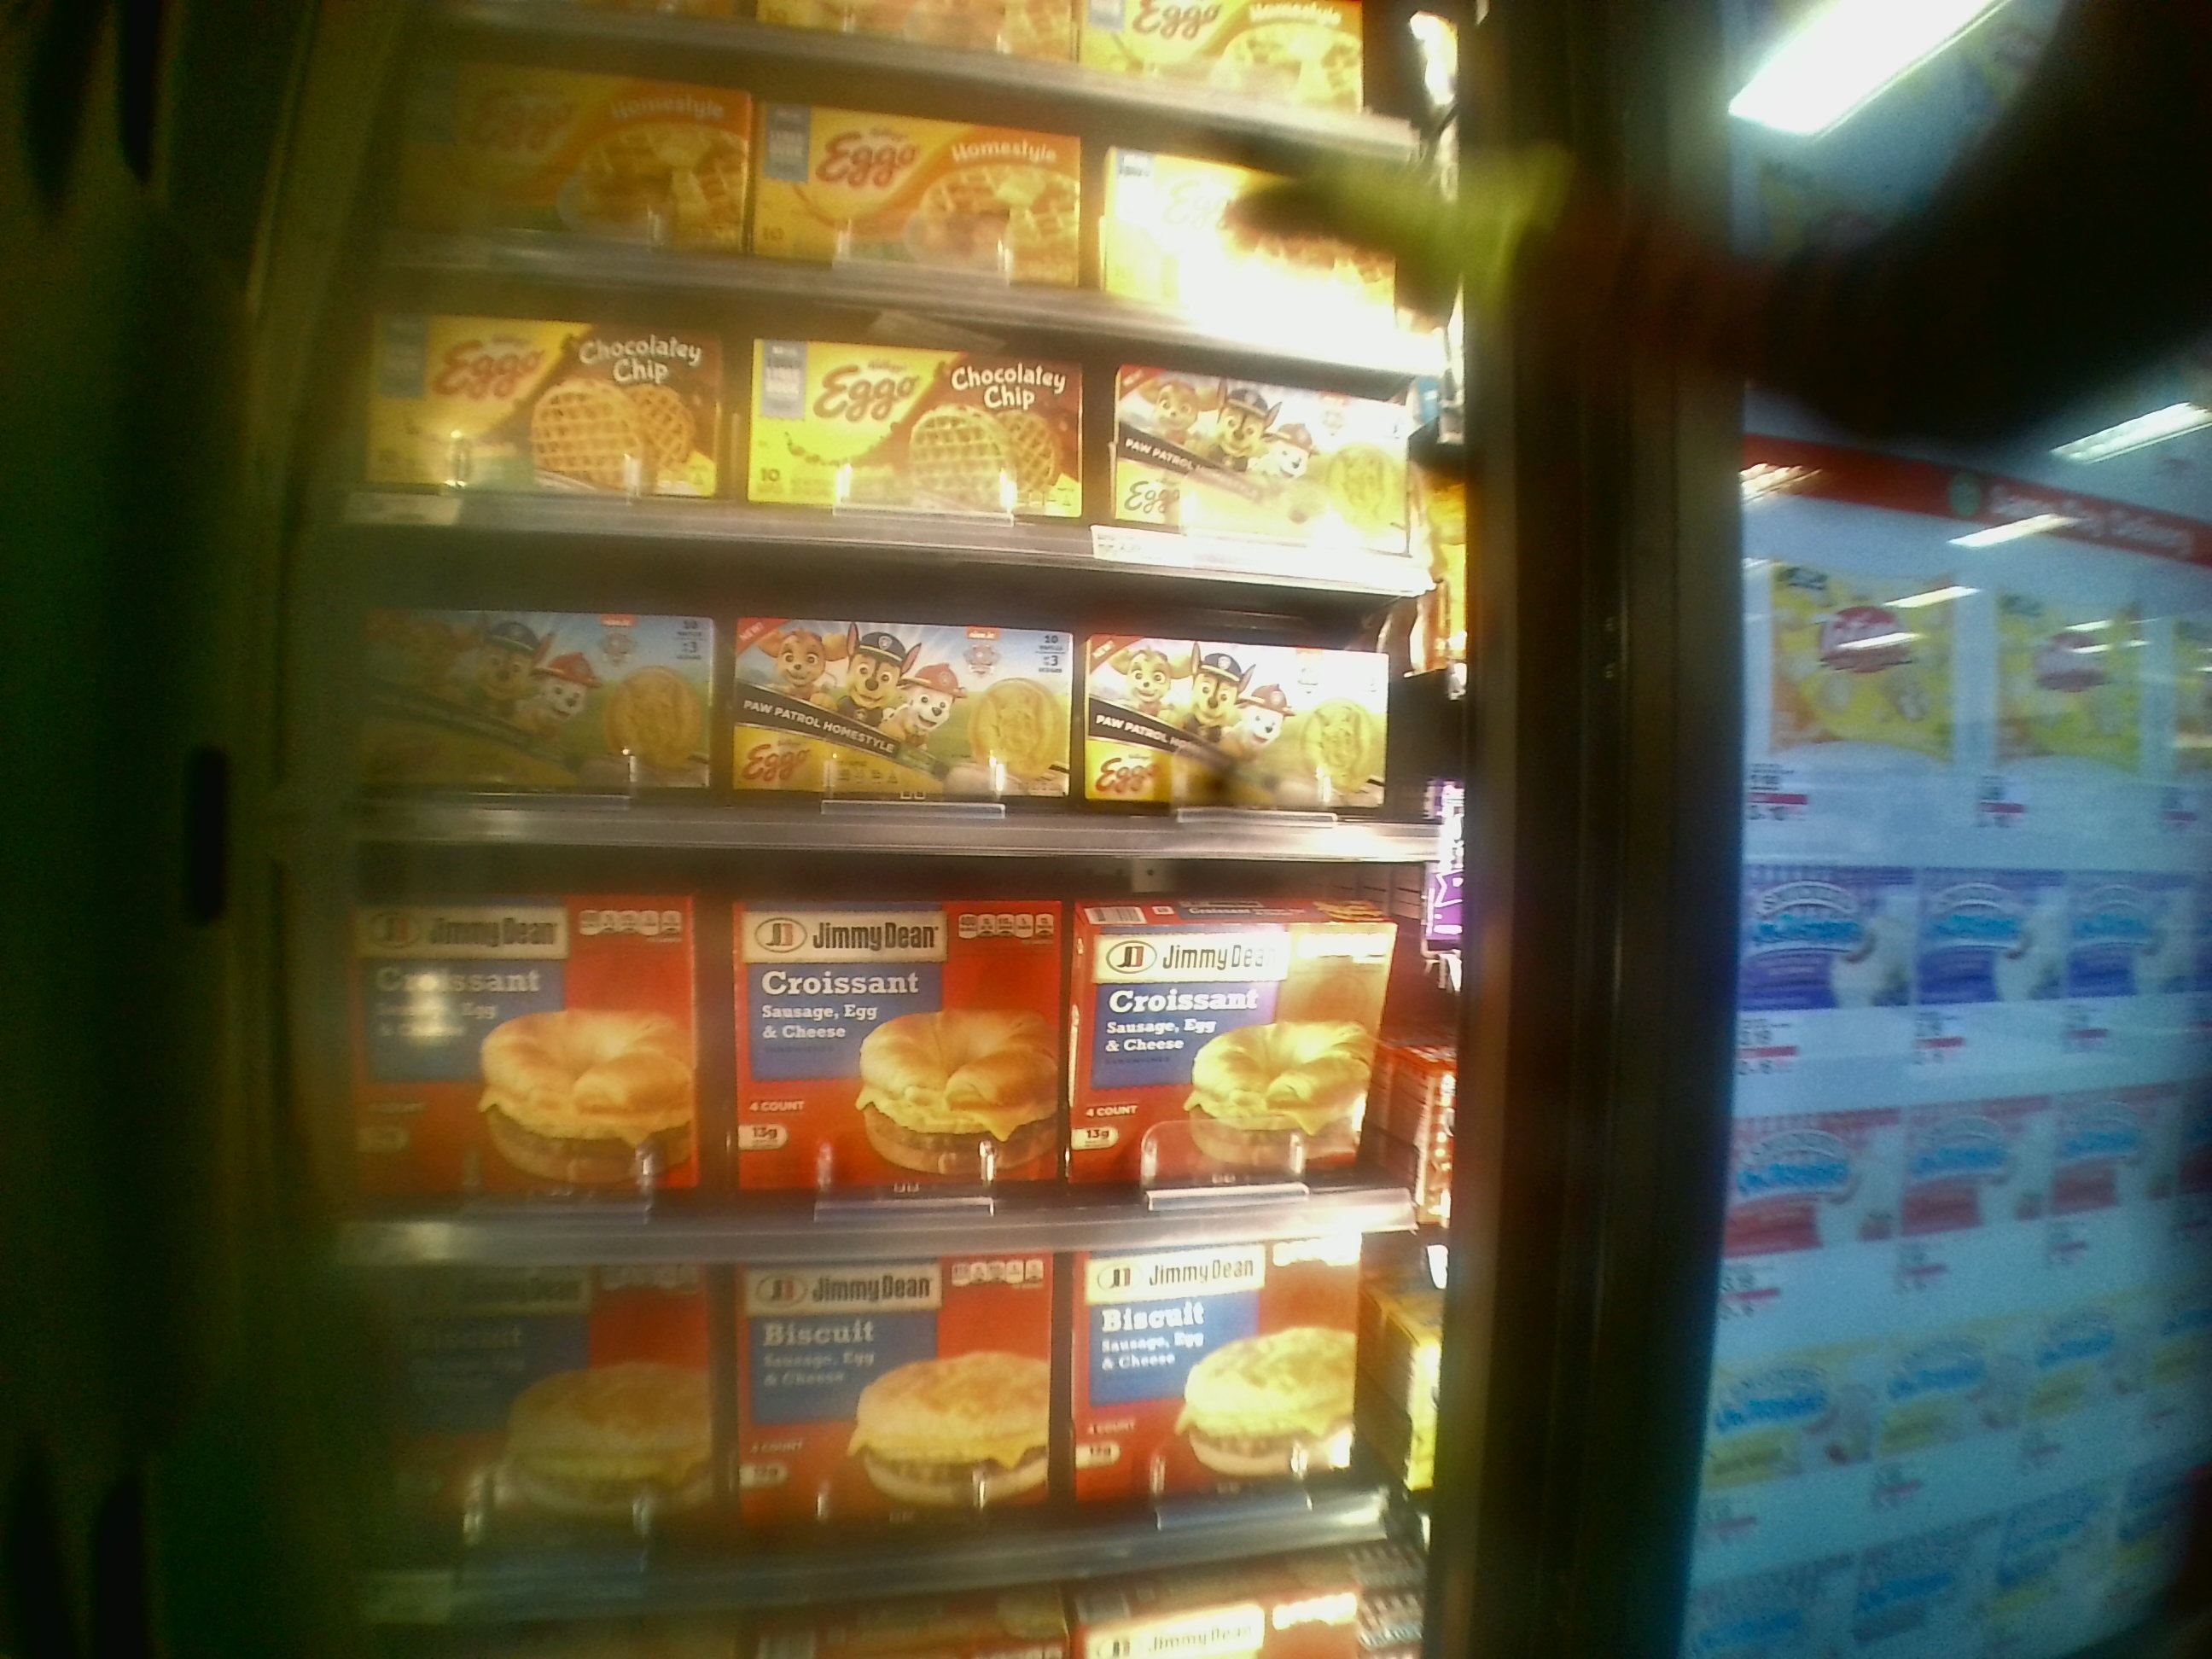frozen-food-shelf: (336, 838, 1428, 1270)
